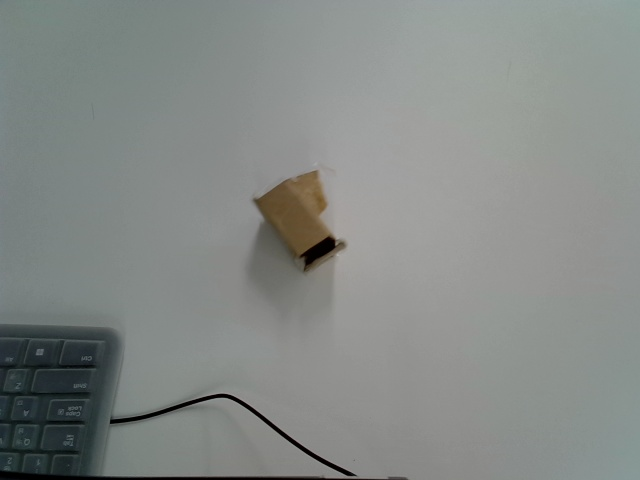defect: (252, 160, 353, 273)
